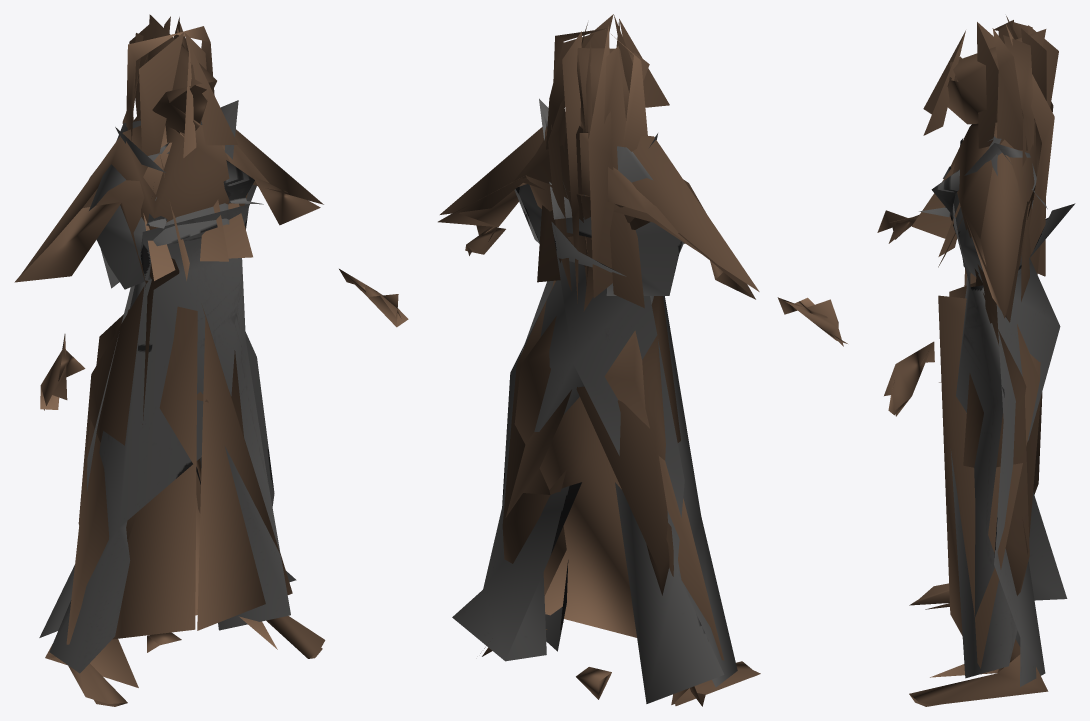
3 renders of one model, left to right at view 1: azimuth 30°, elevation 25°; view 2: azimuth 150°, elevation 25°; view 3: azimuth 270°, elevation 25°, orthographic. The views are drawn at different scales.
Parts seen in each view (by area): view 1: body.002; view 2: body.002; view 3: body.002.
Part boxes in pixels (x1,y1,x2,y2): body.002: (14,14,408,706); body.002: (438,14,847,706); body.002: (877,16,1075,706).
Bounding box in the file's own units: 1.2 × 2 × 0.5575.
2 materials, 1 textured.
